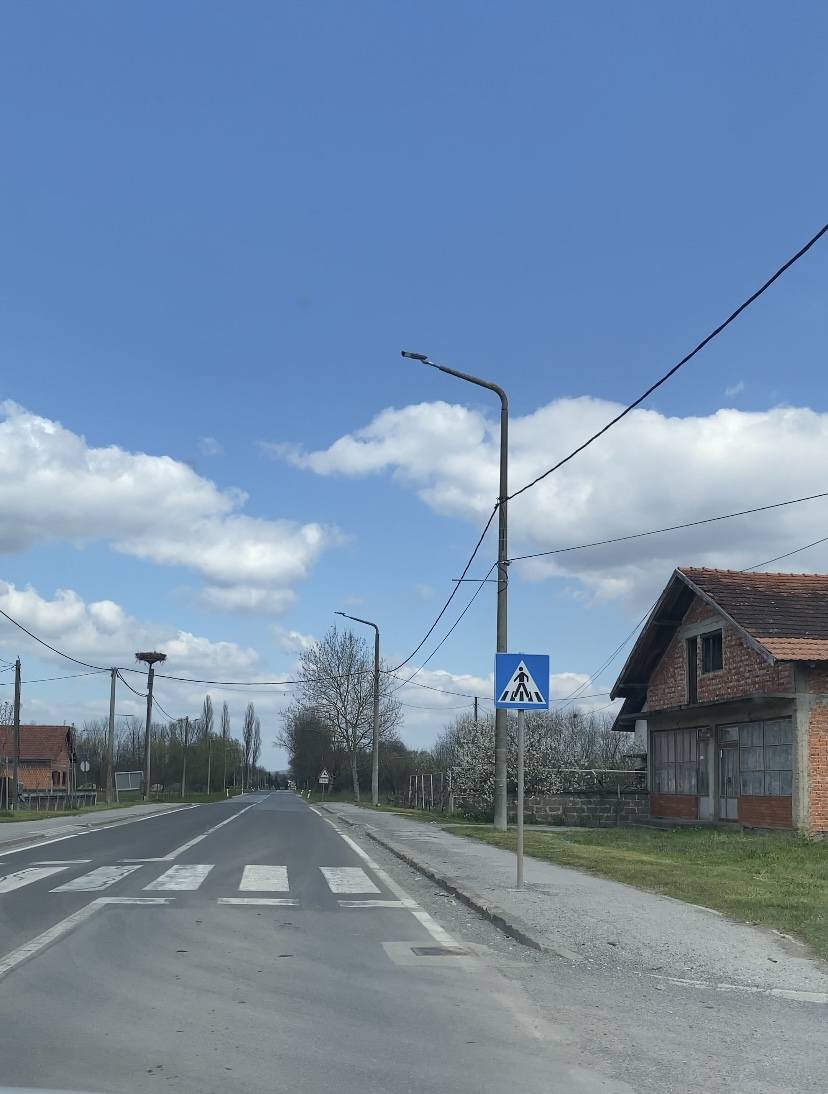Pješački prijelaz: (494, 653, 551, 709)
